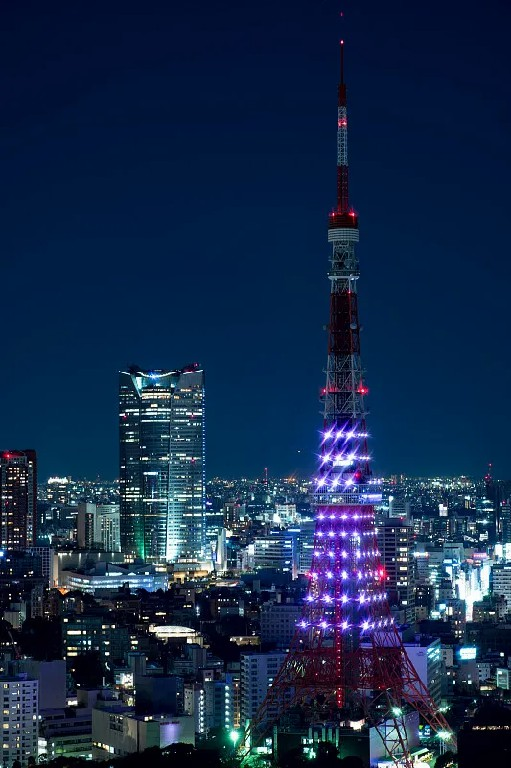Tokyo: (238, 4, 453, 752)
